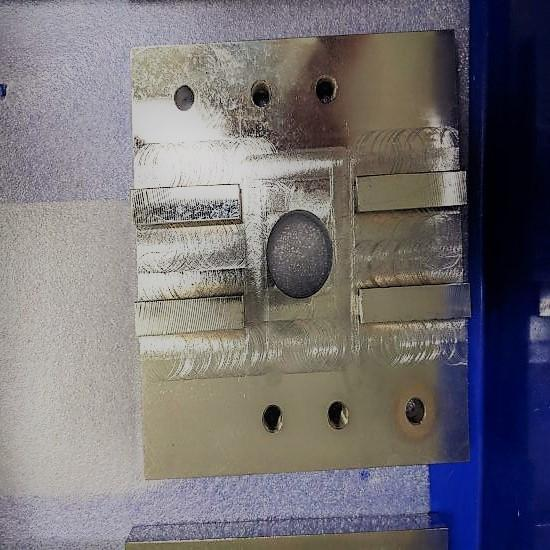hole: (253, 398, 289, 444), (316, 396, 356, 437), (310, 67, 346, 110), (398, 390, 434, 432), (164, 79, 202, 118), (246, 79, 276, 111)
